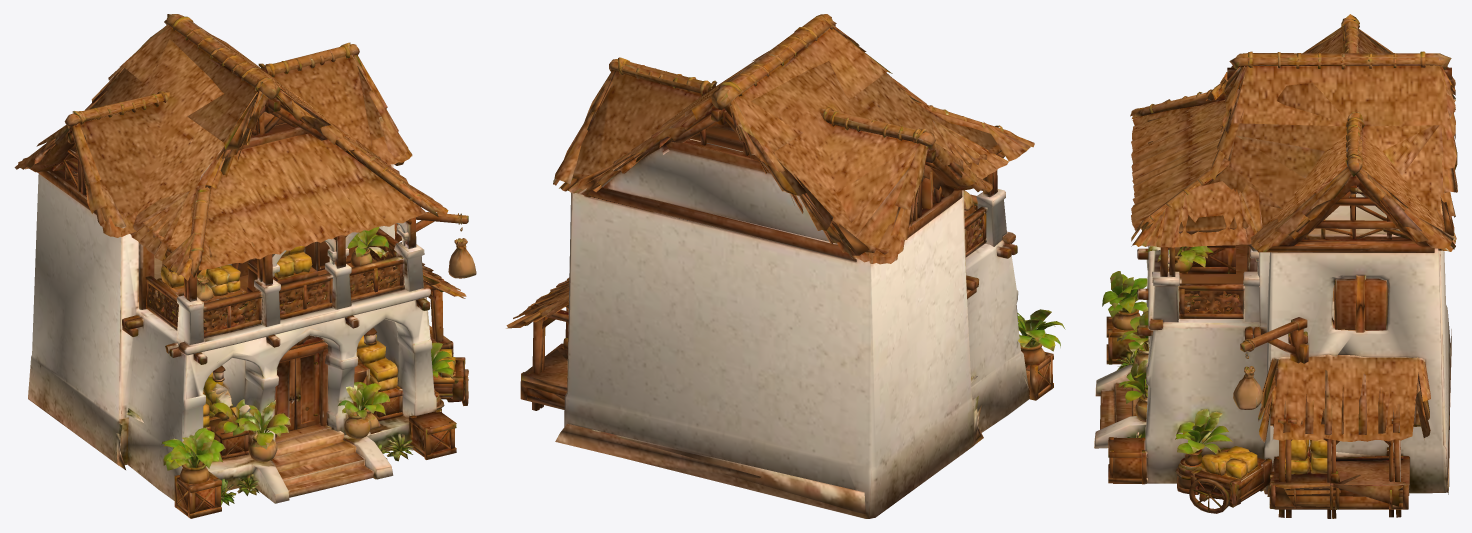
3 views of the same model, side by side, from view 1: azimuth 30°, elevation 25°; view 2: azimuth 150°, elevation 25°; view 3: azimuth 270°, elevation 25° (orthographic). The views are drawn at different scales.
Visible parts, largest first — view 1: Mesh_0; view 2: Mesh_0; view 3: Mesh_0.
Part boxes in pixels (<box>): Mesh_0: <box>14,14,476,518</box>; Mesh_0: <box>506,14,1065,518</box>; Mesh_0: <box>1094,14,1457,518</box>.
Size of the model in its own units: 8.62 by 8 by 7.1.
Materials: 1 (1 with a texture image).
